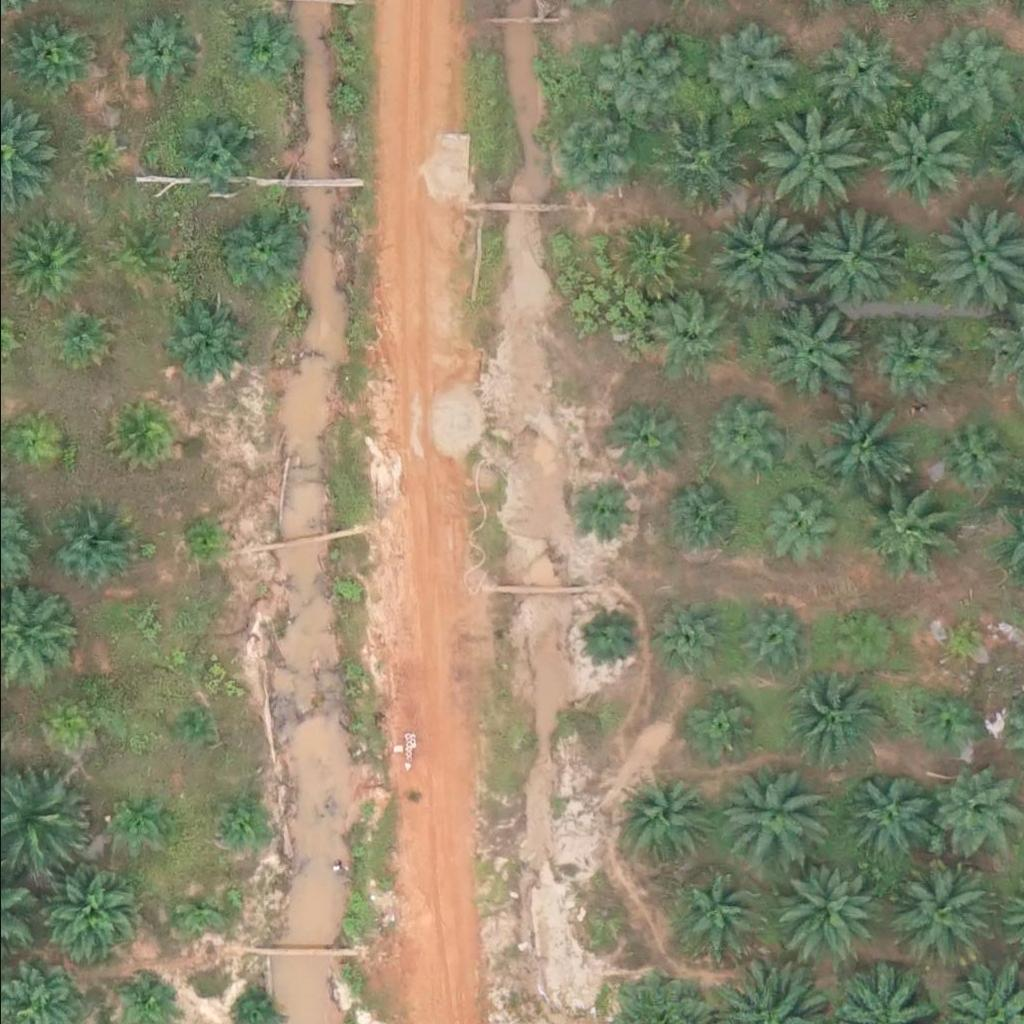Kelapa_Sawit: (701, 201, 814, 314), (797, 193, 910, 306), (754, 101, 868, 213), (882, 860, 983, 960), (774, 856, 875, 956), (853, 476, 954, 576), (804, 390, 905, 490), (756, 300, 857, 400), (651, 108, 752, 208), (787, 675, 888, 775), (37, 866, 137, 966), (723, 767, 823, 867), (49, 500, 137, 588), (172, 106, 260, 194), (5, 12, 93, 100), (927, 764, 1015, 852), (644, 589, 732, 677), (606, 208, 694, 296), (928, 411, 1016, 499), (868, 118, 956, 206), (700, 20, 788, 108), (839, 767, 928, 854), (592, 31, 681, 118), (216, 207, 304, 294), (1, 216, 89, 303), (669, 874, 757, 961), (620, 776, 708, 863), (725, 599, 813, 686), (859, 316, 947, 403), (639, 293, 727, 380), (547, 109, 635, 196), (822, 21, 910, 108), (934, 30, 1022, 117), (160, 303, 236, 378), (118, 12, 194, 87), (754, 482, 830, 557), (666, 484, 742, 559), (906, 683, 982, 758), (819, 602, 895, 677), (685, 690, 760, 765), (700, 402, 775, 477), (600, 400, 675, 475), (234, 14, 297, 77), (113, 403, 176, 466), (571, 473, 634, 536), (575, 606, 638, 668), (107, 226, 170, 288), (931, 609, 994, 671), (6, 413, 57, 463), (171, 888, 221, 938), (217, 796, 267, 846), (114, 791, 164, 841), (56, 310, 106, 360), (168, 705, 206, 743), (184, 519, 222, 556), (50, 695, 87, 732), (84, 134, 121, 171), (133, 608, 159, 633)
